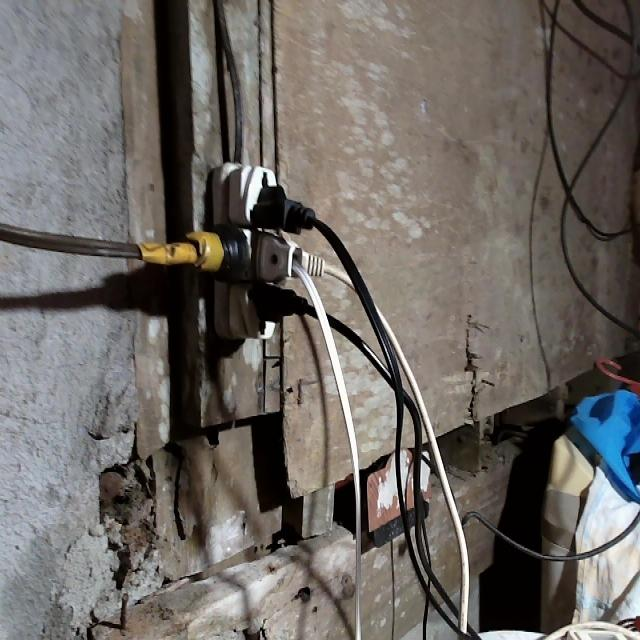-: (176, 155, 335, 344)
